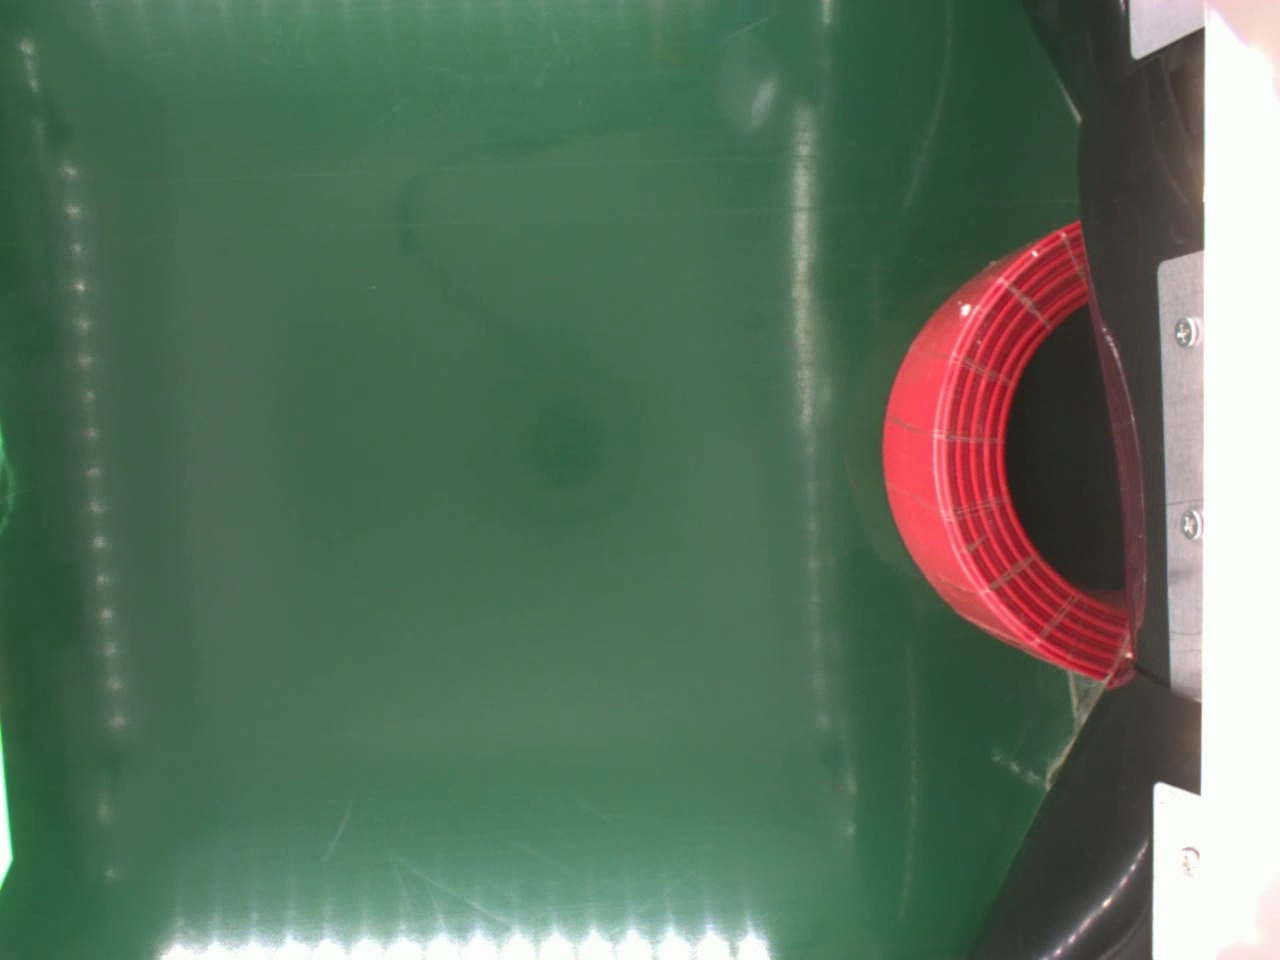red: (875, 215, 1131, 682)
